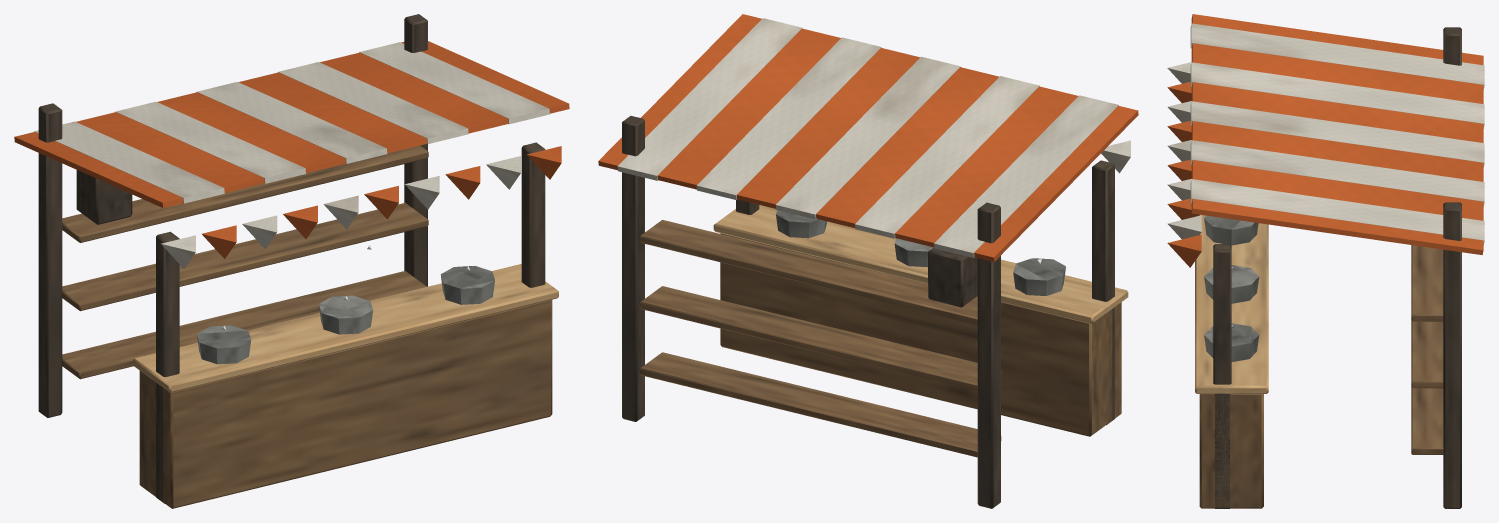
The model's file is SM_Lobby_ShopDisplay.fbx.
3 views of the same model, side by side, from view 1: azimuth 30°, elevation 25°; view 2: azimuth 150°, elevation 25°; view 3: azimuth 270°, elevation 25° (orthographic). The views are drawn at different scales.
Parts seen in each view (by area): view 1: SM_Lobby_ShopDisplay; view 2: SM_Lobby_ShopDisplay; view 3: SM_Lobby_ShopDisplay.
Part boxes in pixels (left/top/right/bottom): SM_Lobby_ShopDisplay: left=14, top=14, right=569, bottom=508; SM_Lobby_ShopDisplay: left=598, top=14, right=1138, bottom=508; SM_Lobby_ShopDisplay: left=1167, top=14, right=1484, bottom=508.
Bounding box in the file's own units: 10 × 7.37 × 6.9.
Materials: 1 (1 with a texture image).
